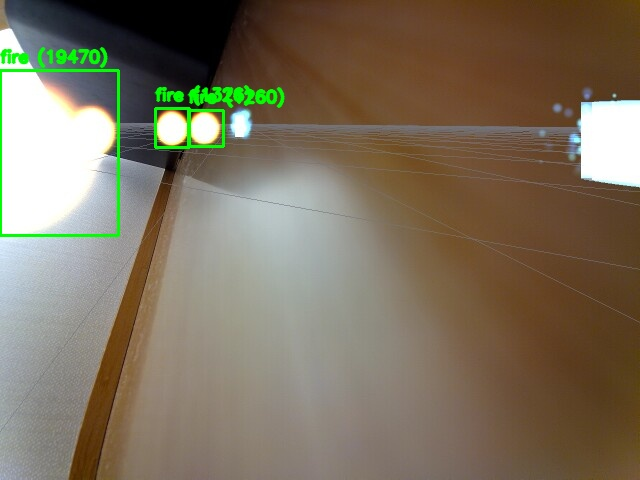fire: (0, 70, 118, 235), (155, 108, 189, 147), (188, 110, 223, 146)
